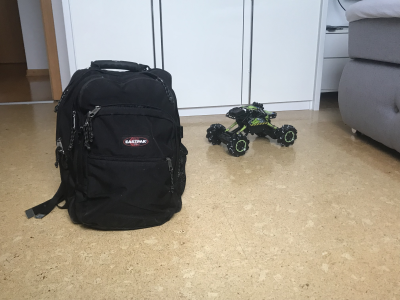remote control car: (203, 100, 300, 157)
